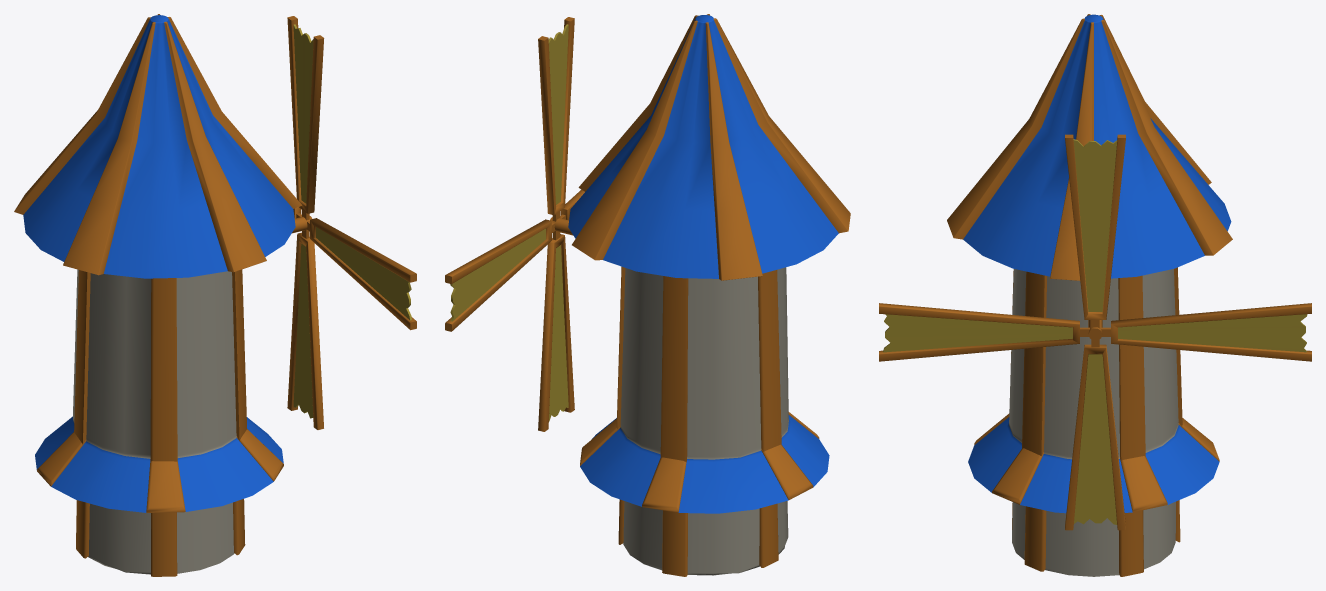
Rendered from Wildmill_BlueTeam.glb.
3 views of the same model, side by side, from view 1: azimuth 30°, elevation 25°; view 2: azimuth 150°, elevation 25°; view 3: azimuth 270°, elevation 25° (orthographic).
Parts seen in each view (by area): view 1: Wildmill_BlueTeam, WingsWildmill_BlueTeam; view 2: Wildmill_BlueTeam, WingsWildmill_BlueTeam; view 3: Wildmill_BlueTeam, WingsWildmill_BlueTeam.
Boxes of the visible parts, x1=… form: Wildmill_BlueTeam: x1=14, y1=14, x2=312, y2=576; WingsWildmill_BlueTeam: x1=287, y1=16, x2=416, y2=429; Wildmill_BlueTeam: x1=550, y1=14, x2=850, y2=576; WingsWildmill_BlueTeam: x1=445, y1=17, x2=584, y2=431; Wildmill_BlueTeam: x1=947, y1=14, x2=1232, y2=576; WingsWildmill_BlueTeam: x1=879, y1=134, x2=1311, y2=530.
Size of the model in its own units: 20.98 by 38.5 by 28.82.
